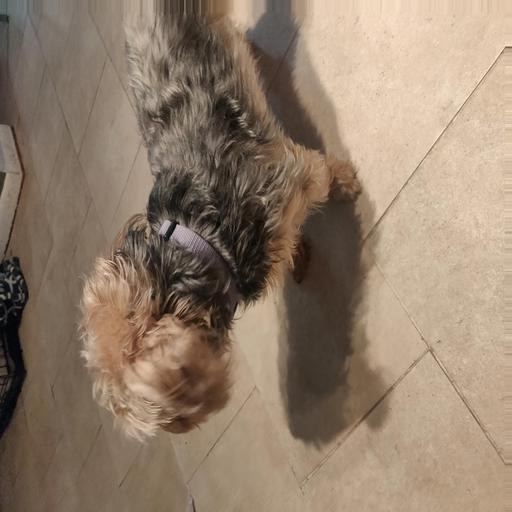dog: (64, 83, 423, 442)
